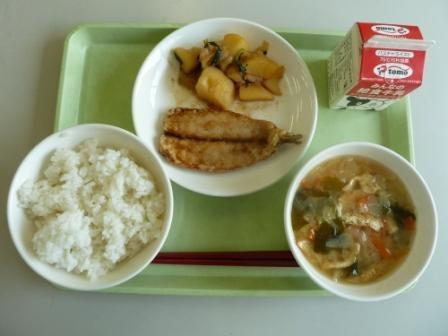Milk: (326, 20, 435, 116)
Rice: (15, 126, 163, 282)
Soups: (295, 154, 420, 288)
fried fish: (161, 98, 295, 171)
vegetable based cooked food: (175, 28, 285, 106)
